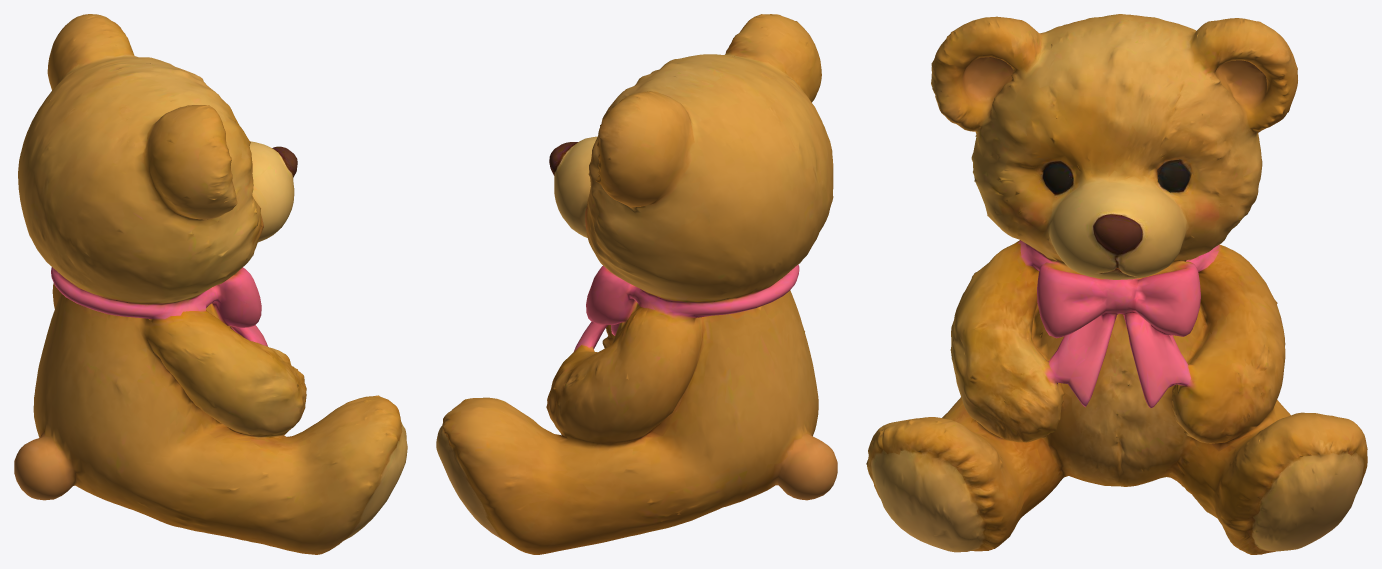
Rendered from keepsake-sale-bear.glb.
3 renders of one model, left to right at view 1: azimuth 30°, elevation 25°; view 2: azimuth 150°, elevation 25°; view 3: azimuth 270°, elevation 25°, orthographic. The views are drawn at different scales.
Visible parts, largest first — view 1: tripo_node_e816b230-165b-42f2-801b-5a52107a390d; view 2: tripo_node_e816b230-165b-42f2-801b-5a52107a390d; view 3: tripo_node_e816b230-165b-42f2-801b-5a52107a390d.
Boxes of the visible parts, x1,y1,x2,y2 form: tripo_node_e816b230-165b-42f2-801b-5a52107a390d: (14,14,407,554); tripo_node_e816b230-165b-42f2-801b-5a52107a390d: (436,14,837,554); tripo_node_e816b230-165b-42f2-801b-5a52107a390d: (866,14,1367,554).
Size of the model in its own units: 0.6823 by 0.9792 by 0.9217.
1 material, 1 textured.
